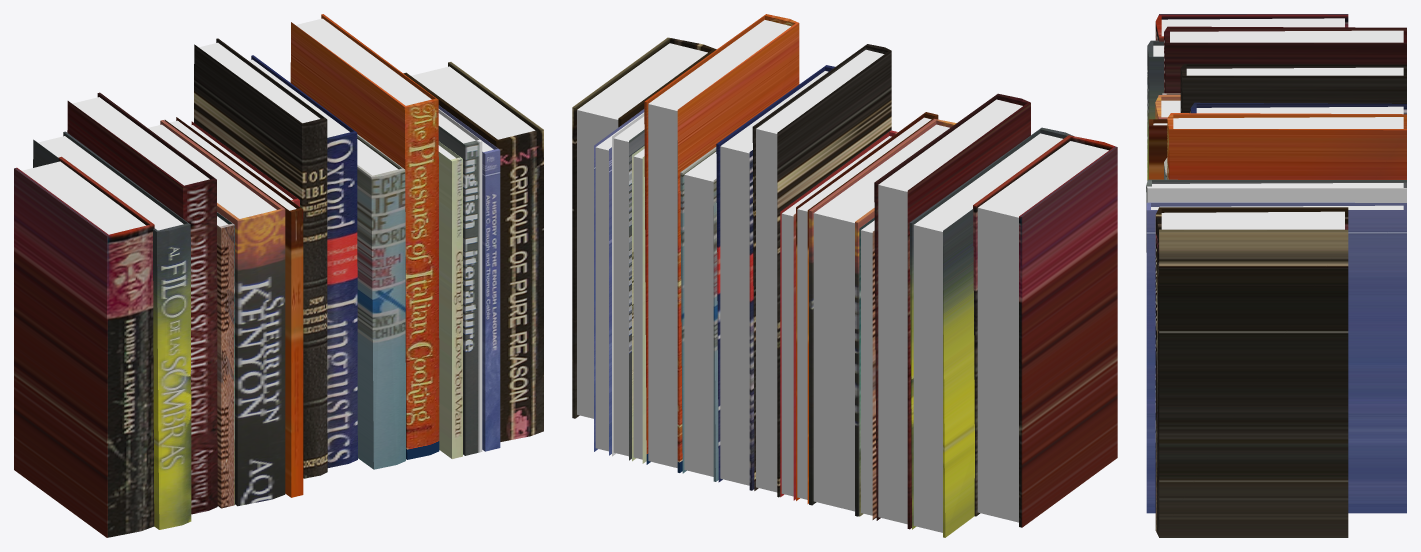
The model's file is Books 5.FBX.
3 renders of one model, left to right at view 1: azimuth 30°, elevation 25°; view 2: azimuth 150°, elevation 25°; view 3: azimuth 270°, elevation 25°, orthographic. The views are drawn at different scales.
Visible parts, largest first — view 1: books 5; view 2: books 5; view 3: books 5.
Boxes of the visible parts, bbox=[...] form: books 5: bbox=[14, 14, 543, 537]; books 5: bbox=[572, 14, 1117, 537]; books 5: bbox=[1146, 14, 1406, 537].
Size of the model in its own units: 30.64 by 23.7 by 15.56.
1 material, 1 textured.
